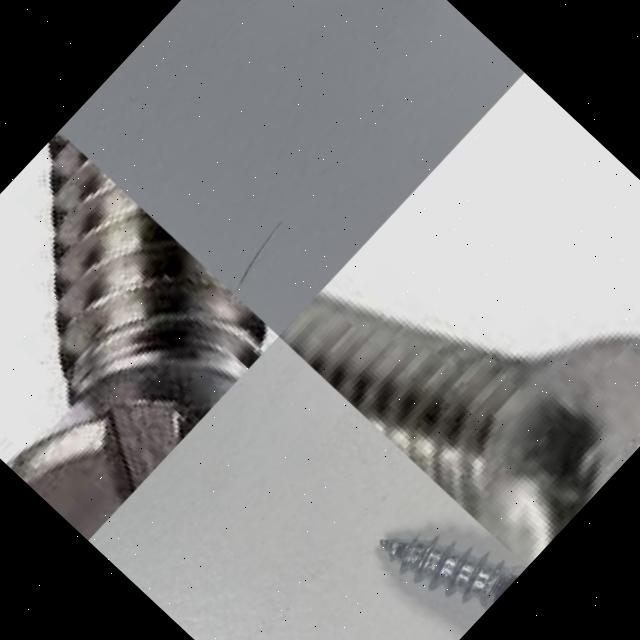Screw: (7, 131, 270, 541), (278, 291, 640, 568), (379, 537, 526, 611)
